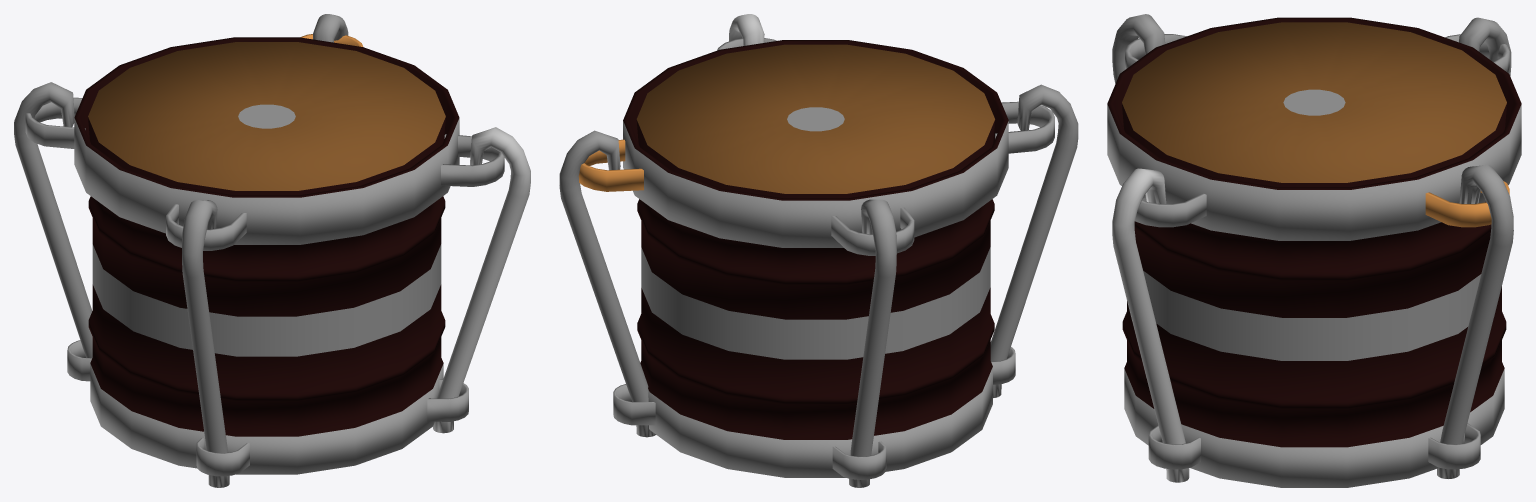
File: Bongo.obj
The picture shows the model from 3 angles, left to right: view 1: azimuth 30°, elevation 25°; view 2: azimuth 150°, elevation 25°; view 3: azimuth 270°, elevation 25°; orthographic projection. The views are drawn at different scales.
Bounding box in the file's own units: 576 × 483 × 555.
